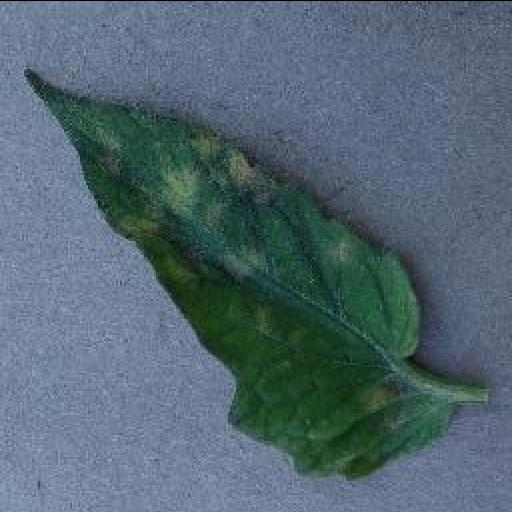disease_tomato: (22, 66, 458, 482)
